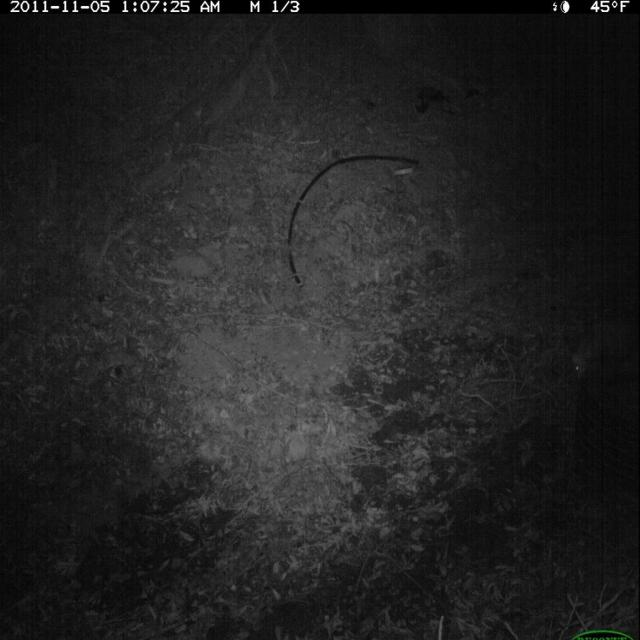opossum: (570, 304, 639, 391)
